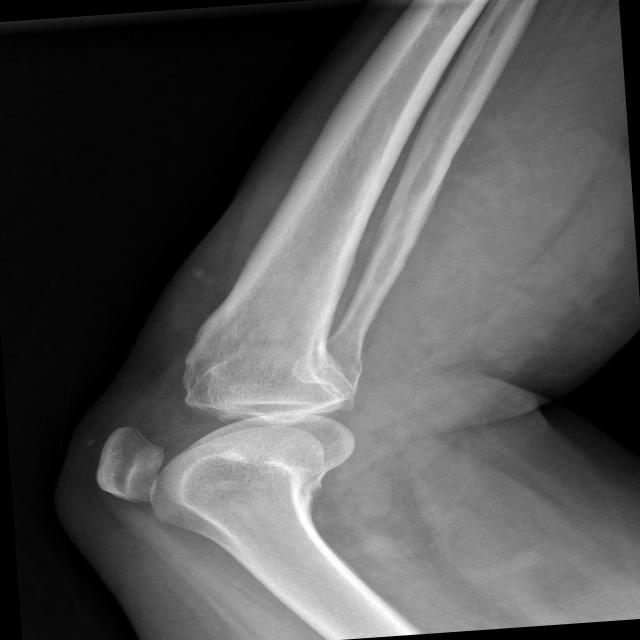Knee: (83, 323, 368, 537)
